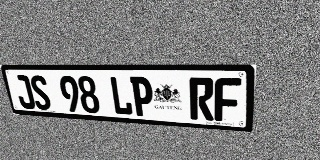8: (76, 76, 101, 113)
9: (58, 76, 82, 112)
F: (215, 78, 241, 122)
J: (12, 75, 36, 109)
L: (109, 76, 133, 116)
P: (130, 77, 154, 117)
R: (189, 77, 214, 121)
S: (28, 75, 52, 110)
